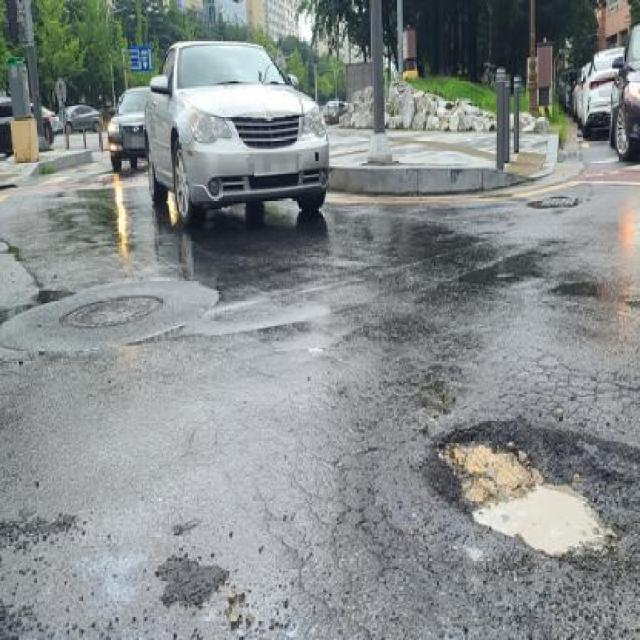pothole: (429, 419, 612, 572), (56, 293, 165, 333)
